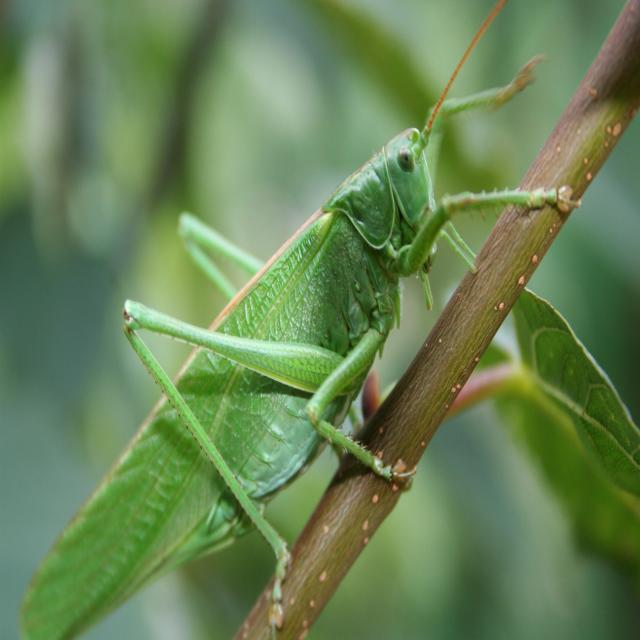ZhaMeng: (23, 66, 501, 636)
